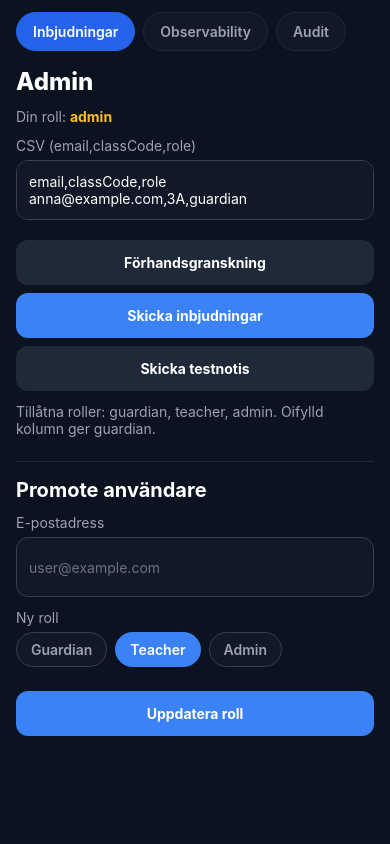
AdminScreen › loads and displays observability data for admin
The width and height of the screenshot is (390, 844).
Click the text "Observability". click: (206, 32)
box: [160,23,251,40]
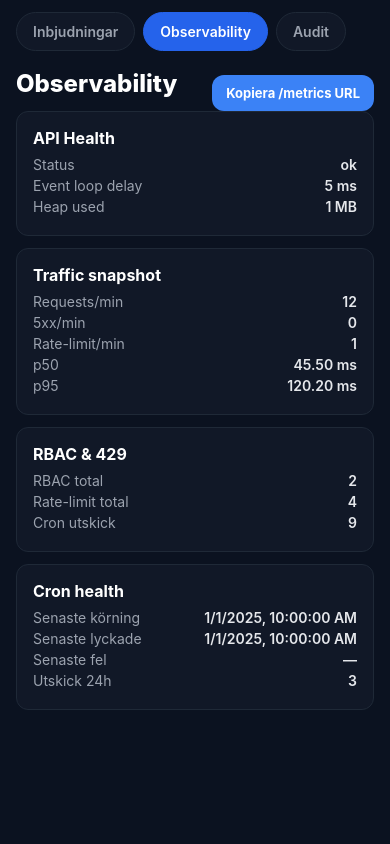
Result: the text "Requests/min" is shown at [33,293,123,310]
Result: the text "12" is shown at [342,293,357,310]
Result: the text "Cron utskick" is shown at [33,514,116,531]
